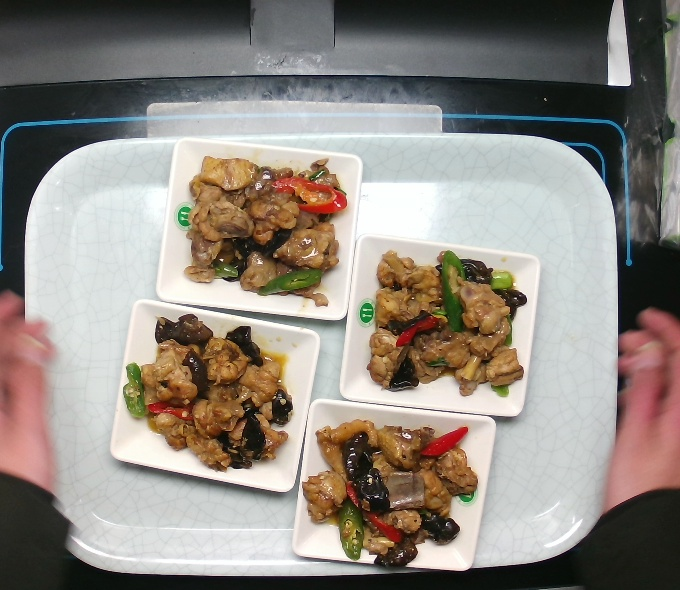wcq-LaZiJi: (291, 414, 490, 575), (117, 305, 306, 474), (162, 145, 347, 304), (351, 241, 528, 404)
